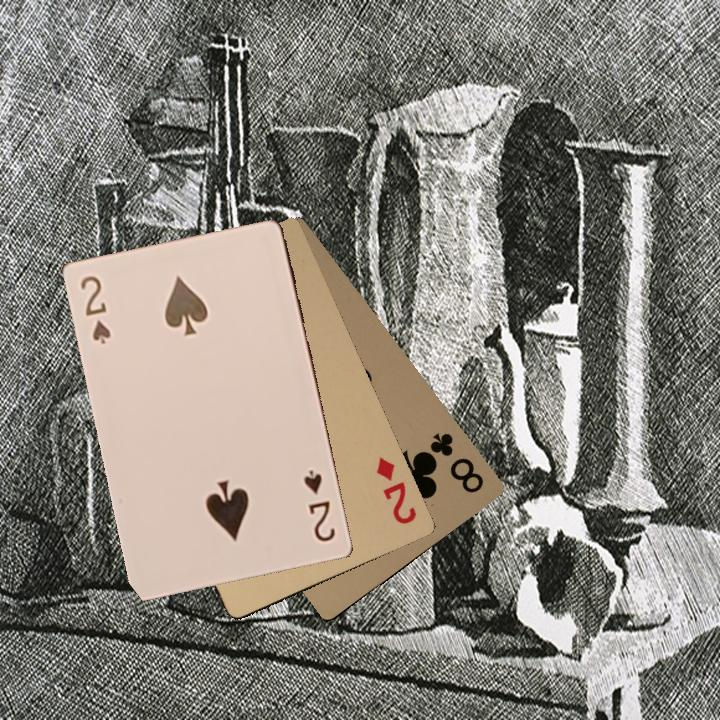2d: (372, 453, 419, 527)
2s: (300, 468, 338, 544), (76, 271, 114, 347)
8c: (425, 428, 487, 496)
